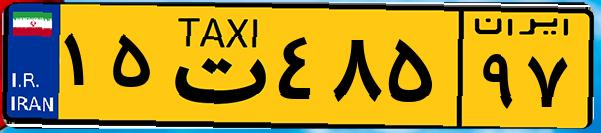1: (57, 26, 110, 100)
4: (270, 28, 330, 110)
5: (385, 28, 445, 110), (110, 28, 158, 98)
7: (525, 38, 570, 115)
8: (330, 28, 385, 110)
9: (475, 38, 525, 113)
ت: (158, 12, 270, 120)
